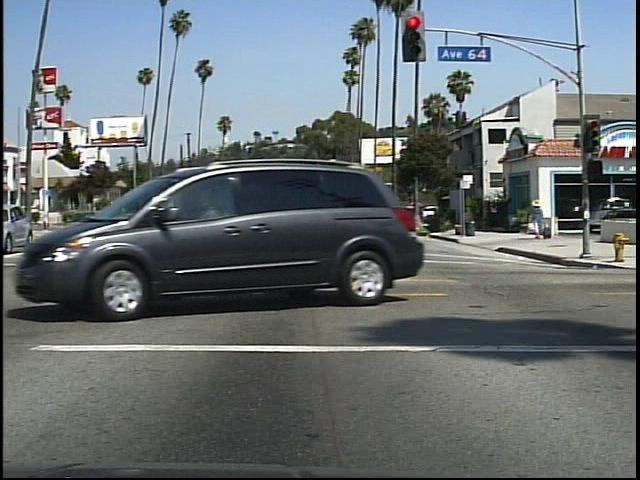person: (530, 195, 548, 246)
